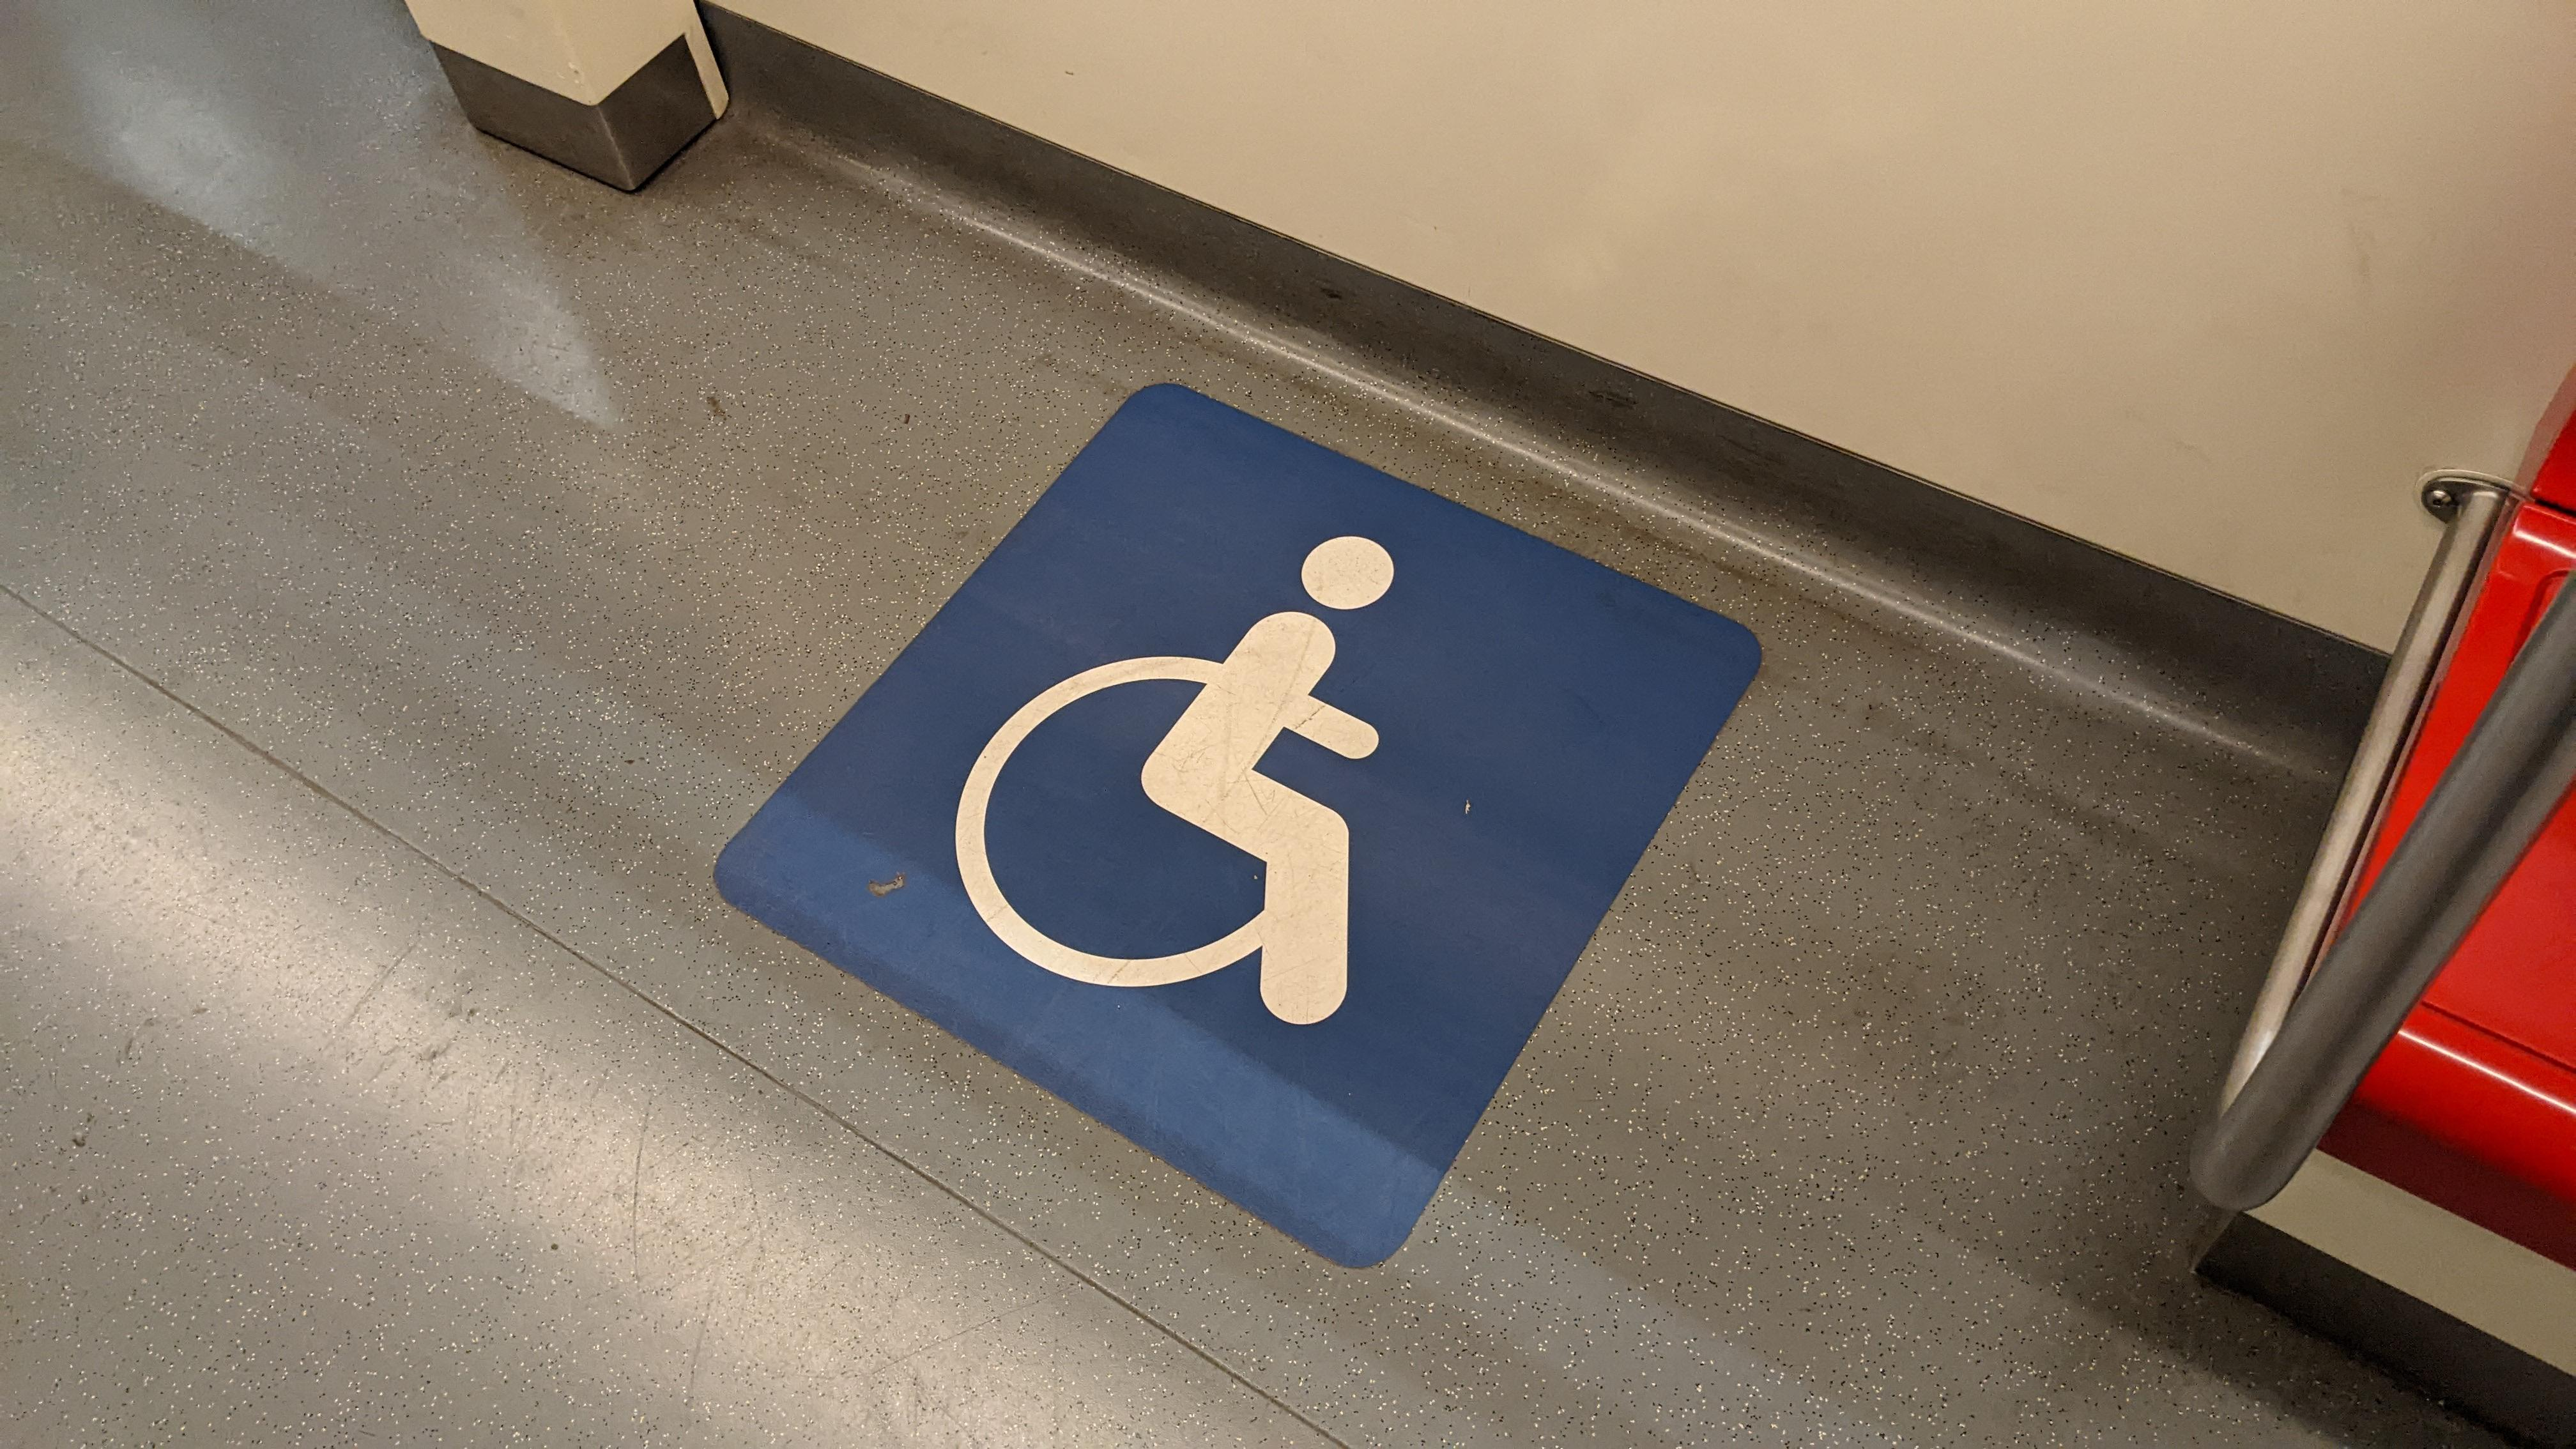handicapped symbol: (948, 529, 1408, 1033)
